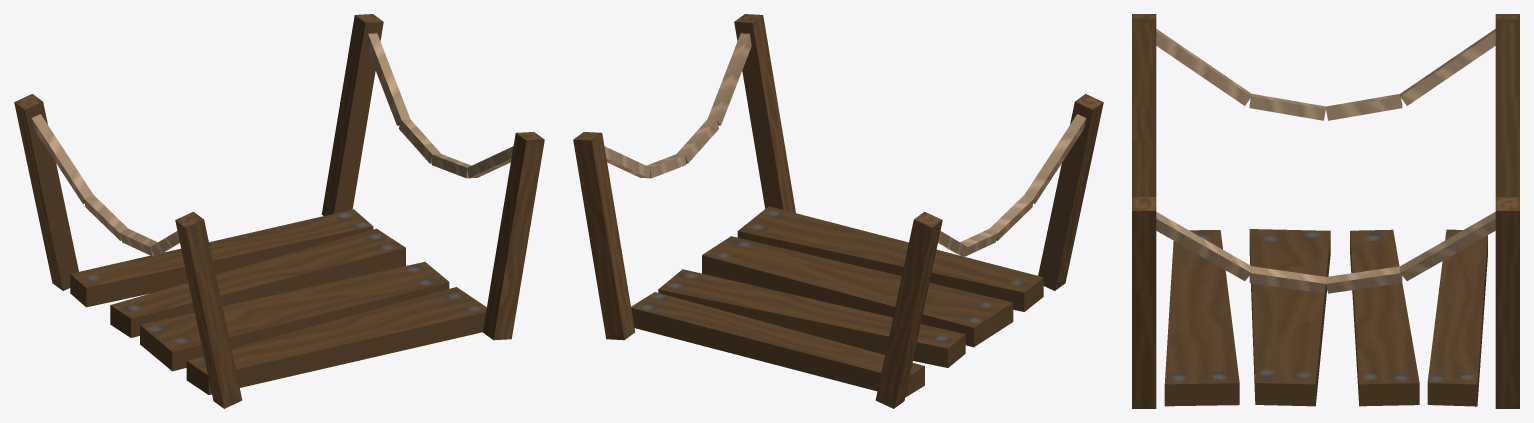
Rendered from bridge_wooden.fbx.
The picture shows the model from 3 angles, left to right: view 1: azimuth 30°, elevation 25°; view 2: azimuth 150°, elevation 25°; view 3: azimuth 270°, elevation 25°; orthographic projection. The views are drawn at different scales.
Parts seen in each view (by area): view 1: BridgeWooden; view 2: BridgeWooden; view 3: BridgeWooden.
Part boxes in pixels (x1,y1,x2,y2): BridgeWooden: (14,14,544,408); BridgeWooden: (573,14,1103,408); BridgeWooden: (1132,14,1519,408).
Size of the model in its own units: 772 by 401 by 640.
